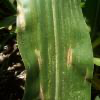Corn leaf blight: (16, 0, 90, 99)
